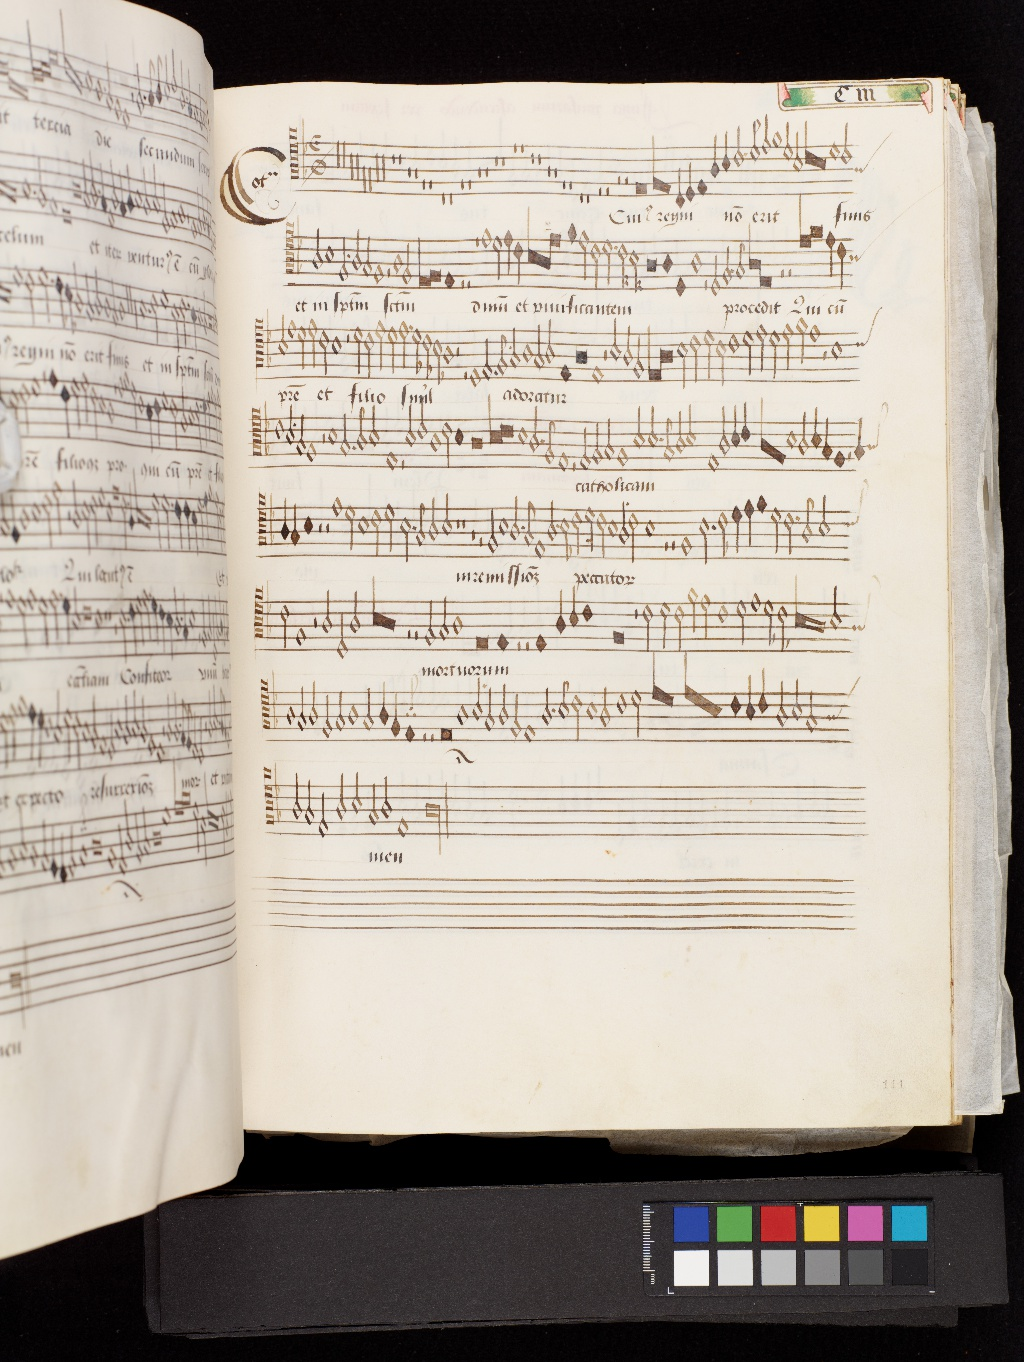c clef_3: (258, 670, 273, 740)
colored breve_10: (437, 718, 457, 748)
colored semibreve_10: (401, 715, 418, 748)
colored semibreve_5: (725, 684, 744, 721)
congruence: (406, 683, 419, 721)
custos_7: (825, 704, 849, 728)
flat_4: (268, 669, 281, 708)
flat_8: (268, 703, 282, 734)
fusa_5: (560, 673, 571, 725)
minim rest: (419, 689, 431, 751), (427, 687, 438, 749)
minim_4: (629, 680, 644, 740)
minim_5: (571, 685, 584, 743)
minim_6: (790, 671, 803, 724)
minim_7: (774, 671, 790, 732), (305, 673, 321, 730), (538, 679, 554, 732), (597, 677, 612, 732), (496, 676, 511, 729)
minim_8: (803, 681, 820, 739), (482, 680, 496, 736), (361, 680, 375, 735), (295, 679, 308, 736), (333, 682, 346, 736)
minim_9: (321, 686, 335, 743), (512, 684, 523, 740)
o1colored semibreve_3: (683, 652, 701, 711), (648, 656, 662, 721)
o2colored semibreve_4: (662, 654, 675, 719)
o2colored semibreve_6: (699, 654, 723, 717)
point: (478, 676, 490, 693), (547, 703, 558, 718)
semibreve_10: (522, 715, 538, 744)
semibreve_5: (613, 685, 630, 721)
semibreve_6: (584, 693, 600, 725), (471, 696, 486, 724)
semibreve_7: (454, 697, 472, 732), (345, 697, 361, 730), (283, 697, 297, 729)
semiminim_5: (756, 664, 771, 720)
semiminim_6: (742, 670, 757, 727)
semiminim_7: (376, 678, 390, 729)
semiminim_9: (389, 690, 402, 744)
